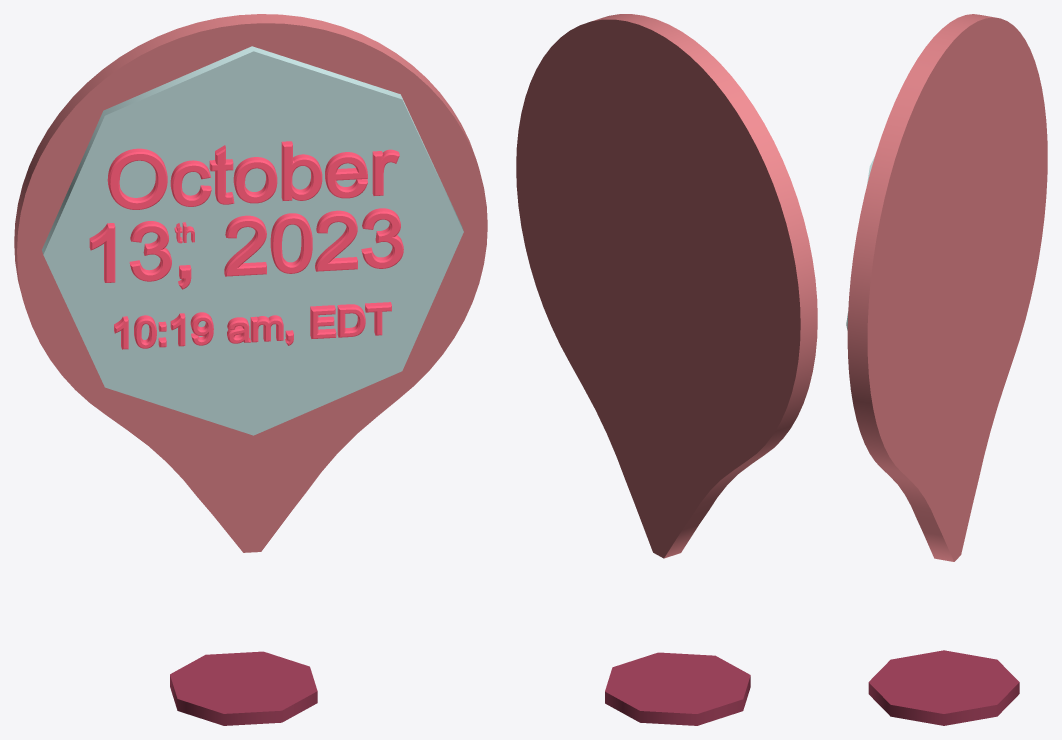
File: launch-date-model.gltf
The picture shows the model from 3 angles, left to right: view 1: azimuth 30°, elevation 25°; view 2: azimuth 150°, elevation 25°; view 3: azimuth 270°, elevation 25°; orthographic projection.
Visible parts, largest first — view 1: TextPlus001, Cylinder002; view 2: TextPlus001, Cylinder002; view 3: TextPlus001, Cylinder002.
Part boxes in pixels (x1,y1,x2,y2): TextPlus001: (14,14,487,552); Cylinder002: (170,651,317,725); TextPlus001: (516,14,817,558); Cylinder002: (605,652,750,725); TextPlus001: (846,14,1047,561); Cylinder002: (868,650,1019,725).
Bounding box in the file's own units: 10.22 × 16.96 × 4.67.
